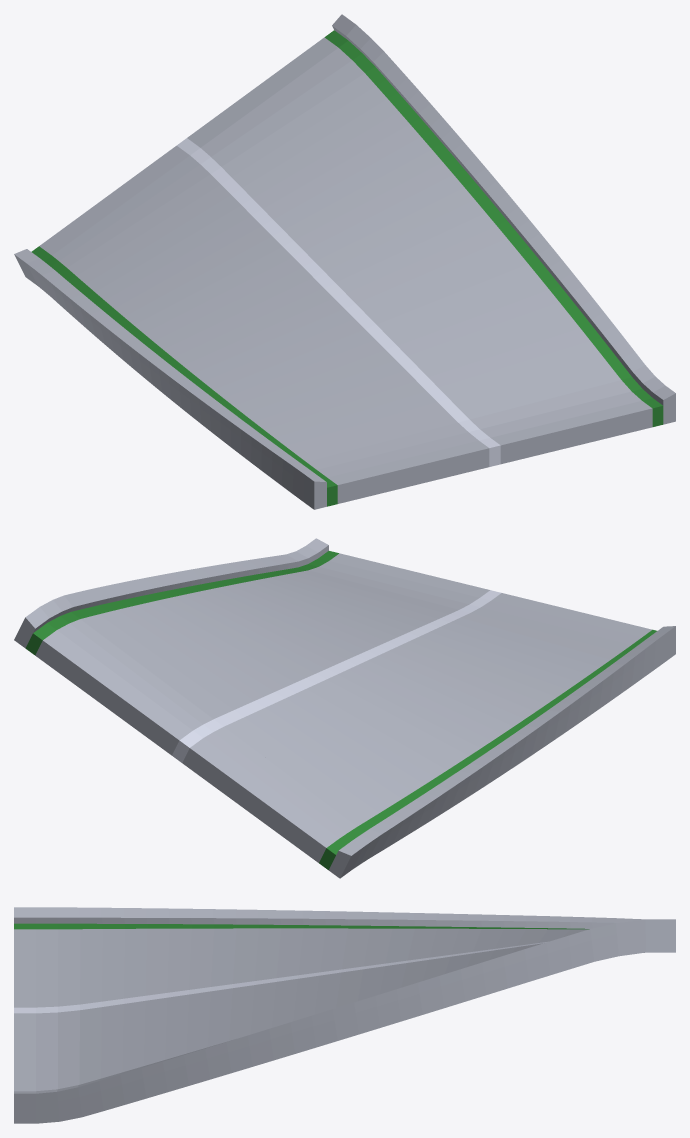
The model's file is tilt_road_left.glb.
3 views of the same model, one above another, from view 1: azimuth 30°, elevation 25°; view 2: azimuth 150°, elevation 25°; view 3: azimuth 270°, elevation 25° (orthographic). The views are drawn at different scales.
Visible parts, largest first — view 1: tilt_road_left; view 2: tilt_road_left; view 3: tilt_road_left.
Boxes of the visible parts, bbox=[...] form: tilt_road_left: bbox=[14, 14, 675, 509]; tilt_road_left: bbox=[14, 538, 675, 878]; tilt_road_left: bbox=[14, 907, 675, 1123].
Size of the model in its own units: 20.06 by 9.81 by 30.
